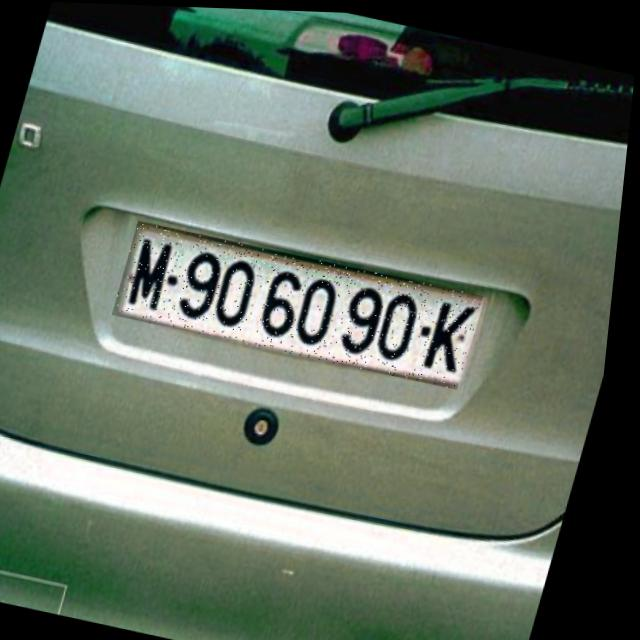license_plate: (113, 219, 494, 386)
